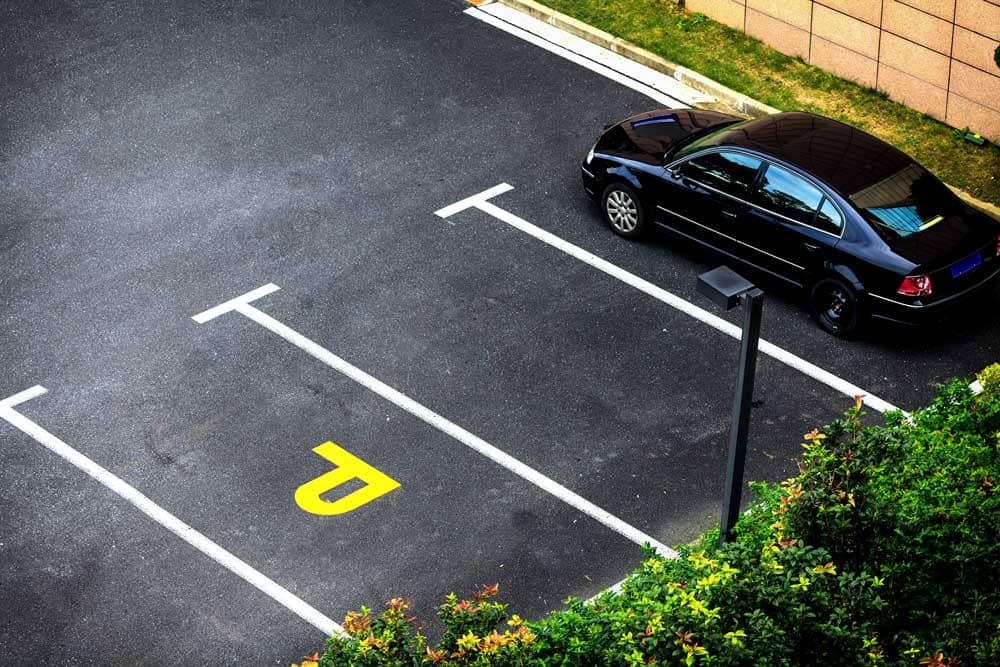Car: (579, 108, 1000, 339)
